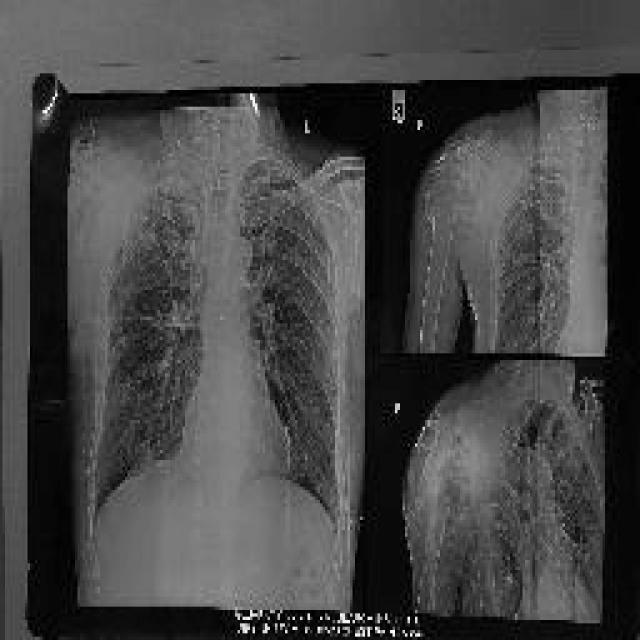bone-cancer: (404, 380, 500, 579), (416, 127, 496, 234)
